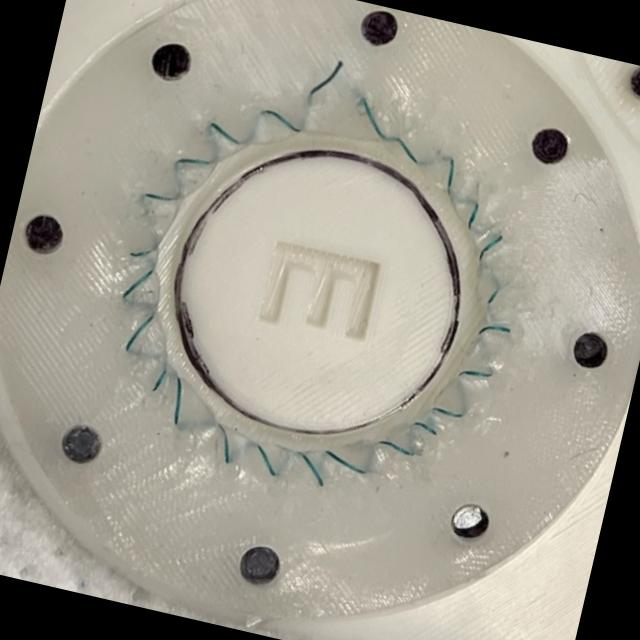suture: (309, 59, 341, 95), (362, 97, 387, 141), (260, 107, 302, 133), (120, 267, 153, 299), (126, 314, 155, 350), (296, 450, 323, 487), (324, 449, 366, 472), (476, 233, 503, 263), (208, 122, 240, 144), (216, 422, 232, 464), (255, 443, 275, 475), (377, 440, 414, 456), (172, 375, 183, 425), (396, 137, 417, 163), (143, 192, 178, 203), (475, 323, 510, 334), (151, 367, 166, 392), (170, 157, 211, 166), (430, 406, 463, 417), (411, 421, 437, 434), (446, 155, 454, 196), (127, 248, 155, 259), (456, 370, 493, 378), (468, 202, 479, 228), (486, 288, 497, 304)
